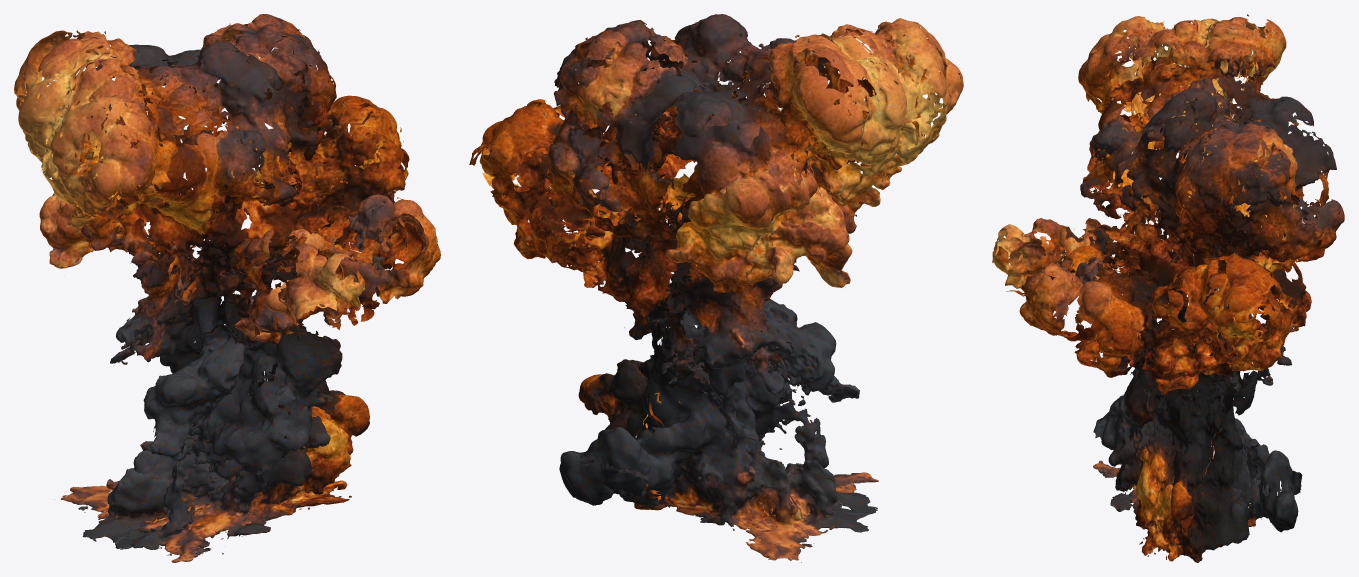
File: explosion.glb
3 renders of one model, left to right at view 1: azimuth 30°, elevation 25°; view 2: azimuth 150°, elevation 25°; view 3: azimuth 270°, elevation 25°, orthographic. The views are drawn at different scales.
Visible parts, largest first — view 1: Object_8, Object_13, Object_10; view 2: Object_8, Object_10, Object_13; view 3: Object_8, Object_10, Object_13.
Part boxes in pixels (x1,y1,x2,y2): Object_8: [14, 14, 440, 347]; Object_13: [33, 26, 414, 549]; Object_10: [39, 59, 395, 562]; Object_8: [469, 14, 963, 393]; Object_10: [559, 85, 883, 541]; Object_13: [479, 19, 938, 562]; Object_8: [992, 16, 1344, 415]; Object_10: [1071, 100, 1302, 561]; Object_13: [1056, 14, 1302, 562].
Size of the model in its own units: 10.45 by 12.54 by 8.89.
1 material, 1 textured.
